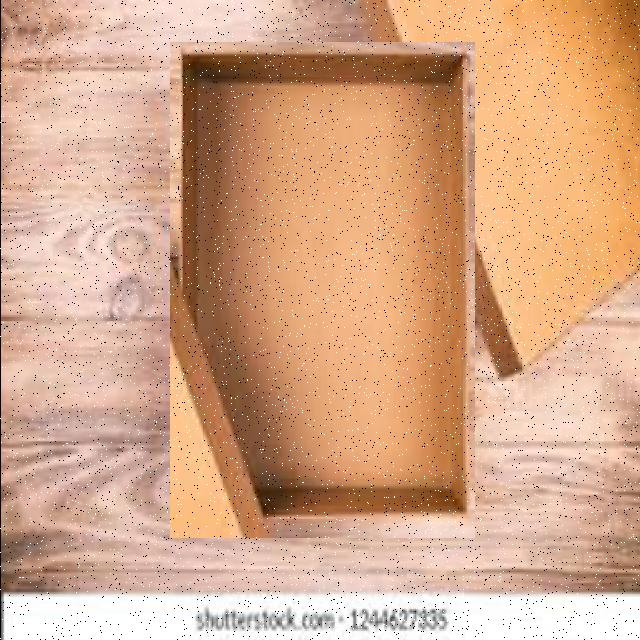defect: (169, 42, 474, 538)
